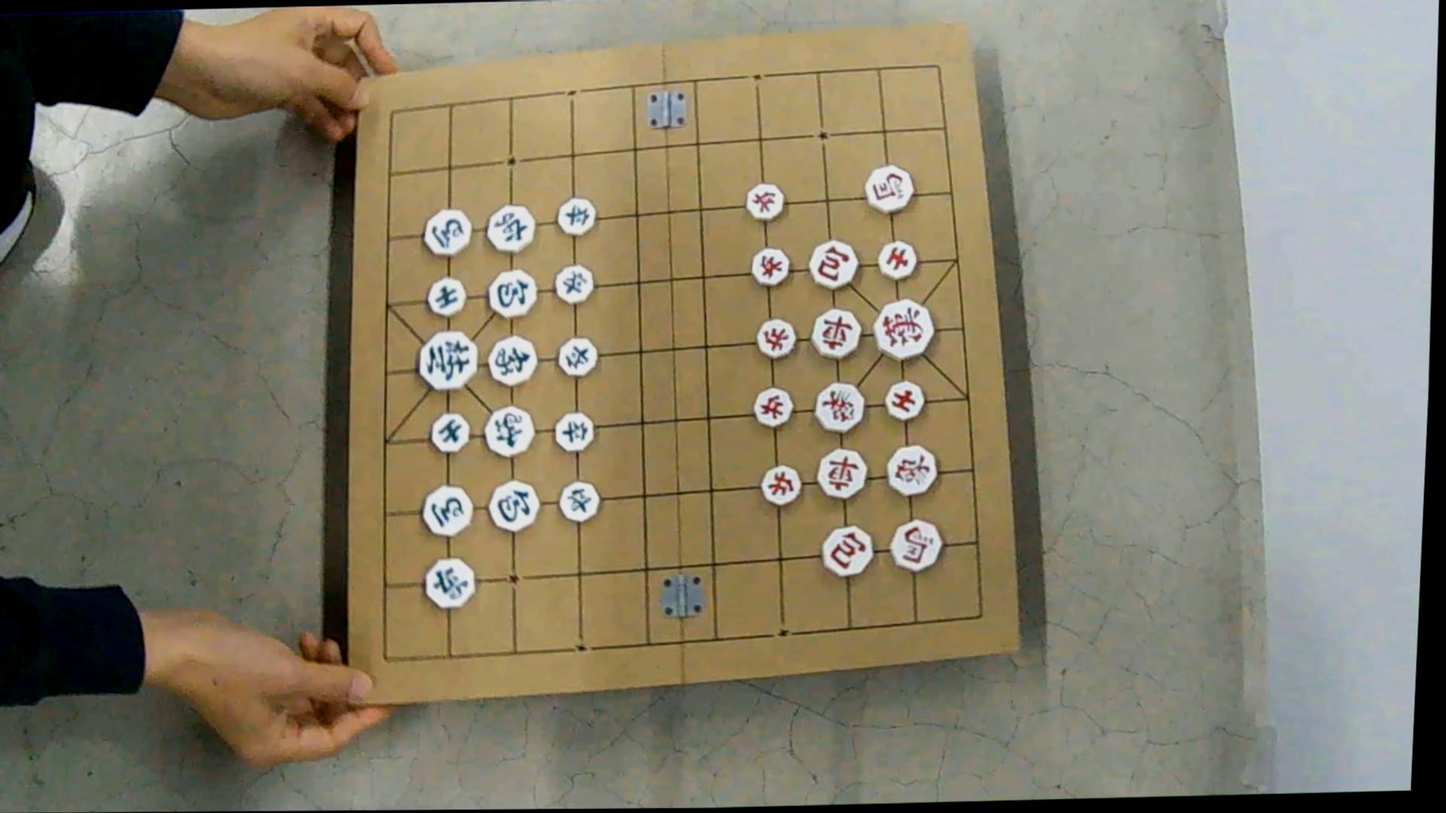cha_green: (423, 556, 475, 607), (484, 203, 535, 252)
cha_red: (810, 307, 860, 358), (815, 448, 865, 498)
jol_green: (557, 480, 599, 521), (553, 410, 593, 451), (553, 264, 593, 303), (556, 336, 596, 375), (557, 196, 596, 234)
jol_red: (758, 463, 801, 504), (755, 317, 796, 358), (752, 386, 792, 426), (749, 246, 790, 285), (744, 182, 784, 220)
ma_green: (421, 484, 473, 535), (421, 207, 471, 255)
ma_red: (889, 519, 941, 571), (864, 164, 913, 212)
po_green: (487, 479, 538, 531), (486, 269, 536, 317)
po_red: (819, 525, 873, 575), (807, 239, 858, 288)
sa_green: (429, 412, 468, 452), (426, 276, 465, 315)
sa_red: (883, 379, 923, 419), (877, 239, 917, 279)
sang_green: (482, 404, 534, 455), (485, 334, 537, 385)
sang_red: (885, 443, 937, 495), (813, 381, 865, 431)
wang_green: (415, 329, 478, 389)
wang_red: (872, 297, 934, 358)
